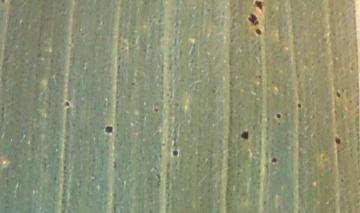tarspot: (247, 12, 259, 26), (253, 1, 264, 12), (240, 130, 249, 141), (104, 124, 113, 134), (171, 148, 180, 158), (270, 155, 279, 165), (63, 99, 71, 108), (334, 135, 341, 145), (274, 112, 282, 120), (153, 105, 160, 114), (254, 28, 263, 35), (295, 102, 303, 109), (335, 89, 341, 98), (129, 80, 137, 86), (1, 1, 7, 5)
